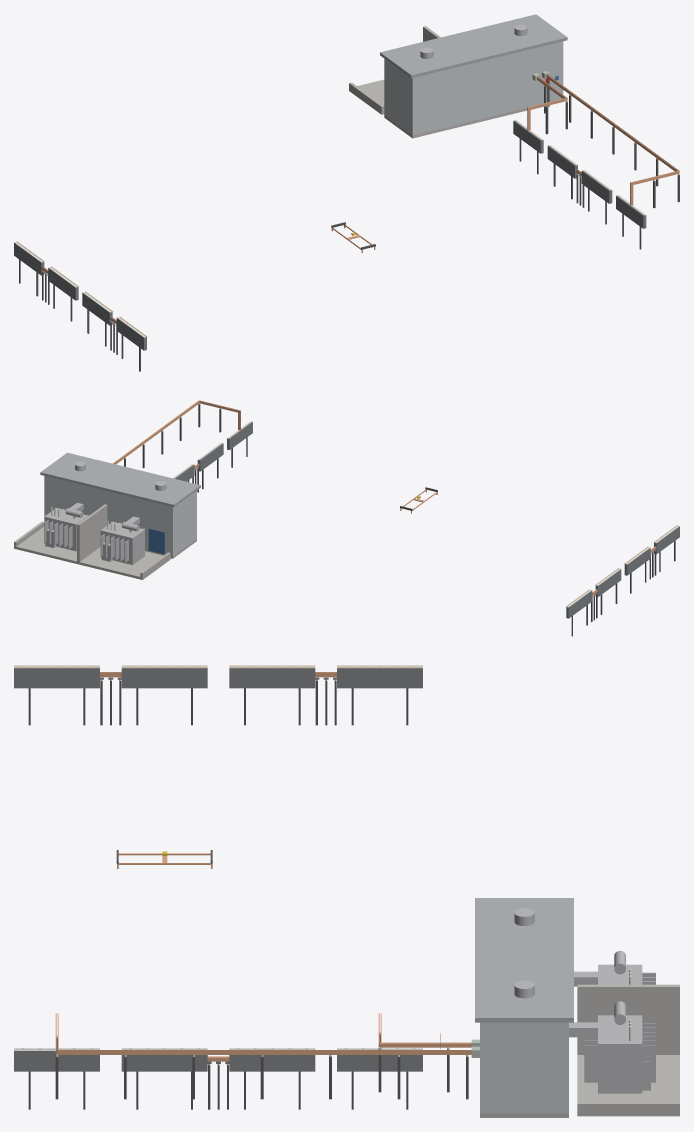
Rendered from SM_RectifierBusbar.fbx.
The picture shows the model from 3 angles, top to bottom: view 1: azimuth 30°, elevation 25°; view 2: azimuth 150°, elevation 25°; view 3: azimuth 270°, elevation 25°; orthographic projection. The views are drawn at different scales.
Visible parts, largest first — view 1: RB_RectifierHouse, RB_RowEnds, RB_MainBus, RB_Transformers; view 2: RB_RectifierHouse, RB_Transformers, RB_RowEnds, RB_MainBus; view 3: RB_RectifierHouse, RB_RowEnds, RB_Transformers, RB_MainBus.
Part boxes in pixels (x1,y1,x2,y2): RB_RectifierHouse: (380,14,567,138); RB_RowEnds: (14,120,646,371); RB_MainBus: (527,71,679,208); RB_Transformers: (349,26,440,114); RB_RectifierHouse: (40,452,200,558); RB_Transformers: (14,502,170,579); RB_RowEnds: (173,421,679,636); RB_MainBus: (113,400,240,468); RB_RectifierHouse: (475,898,573,1117); RB_RowEnds: (14,665,422,1109); RB_Transformers: (569,950,679,1116); RB_MainBus: (55,1013,479,1099).
Size of the model in its own units: 6065 by 990 by 3897.
